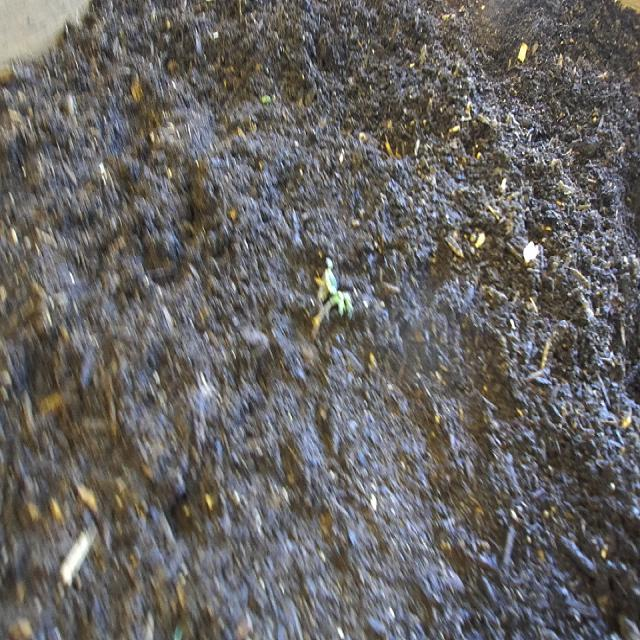Unhealthy: (301, 245, 357, 358)
